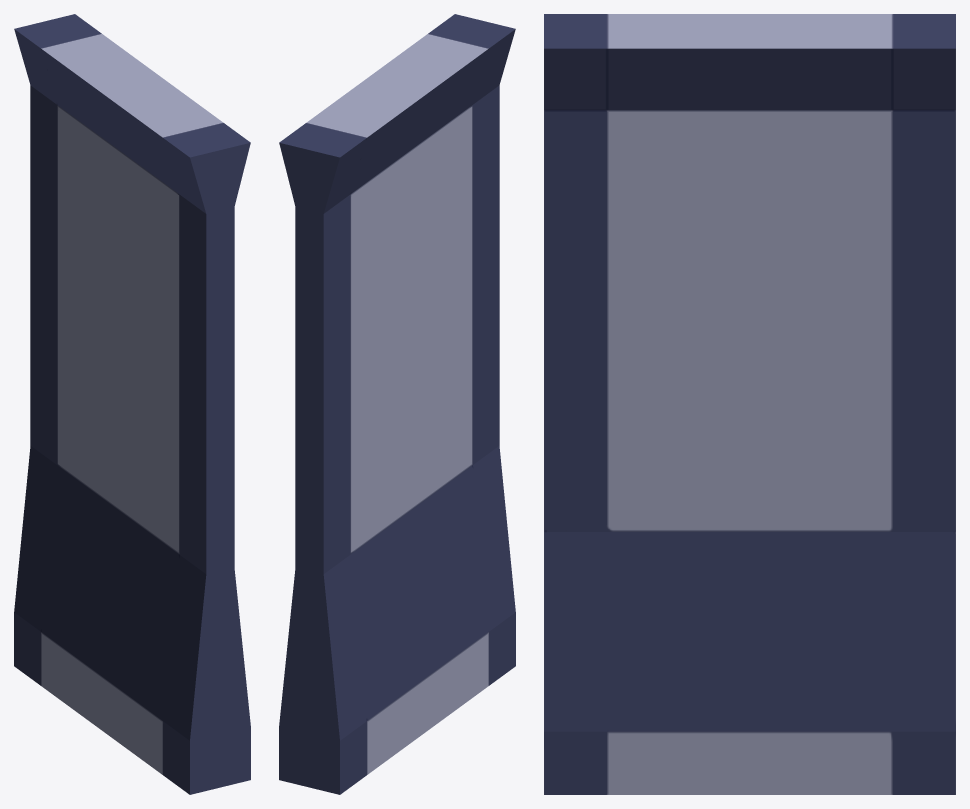
File: tembok.fbx
3 renders of one model, left to right at view 1: azimuth 30°, elevation 25°; view 2: azimuth 150°, elevation 25°; view 3: azimuth 270°, elevation 25°, orthographic. The views are drawn at different scales.
Parts seen in each view (by area): view 1: Cube; view 2: Cube; view 3: Cube.
Boxes of the visible parts, <box> form: Cube: <box>14,14,250,794</box>; Cube: <box>279,14,515,794</box>; Cube: <box>544,14,955,794</box>.
Size of the model in its own units: 30 by 300 by 150.
